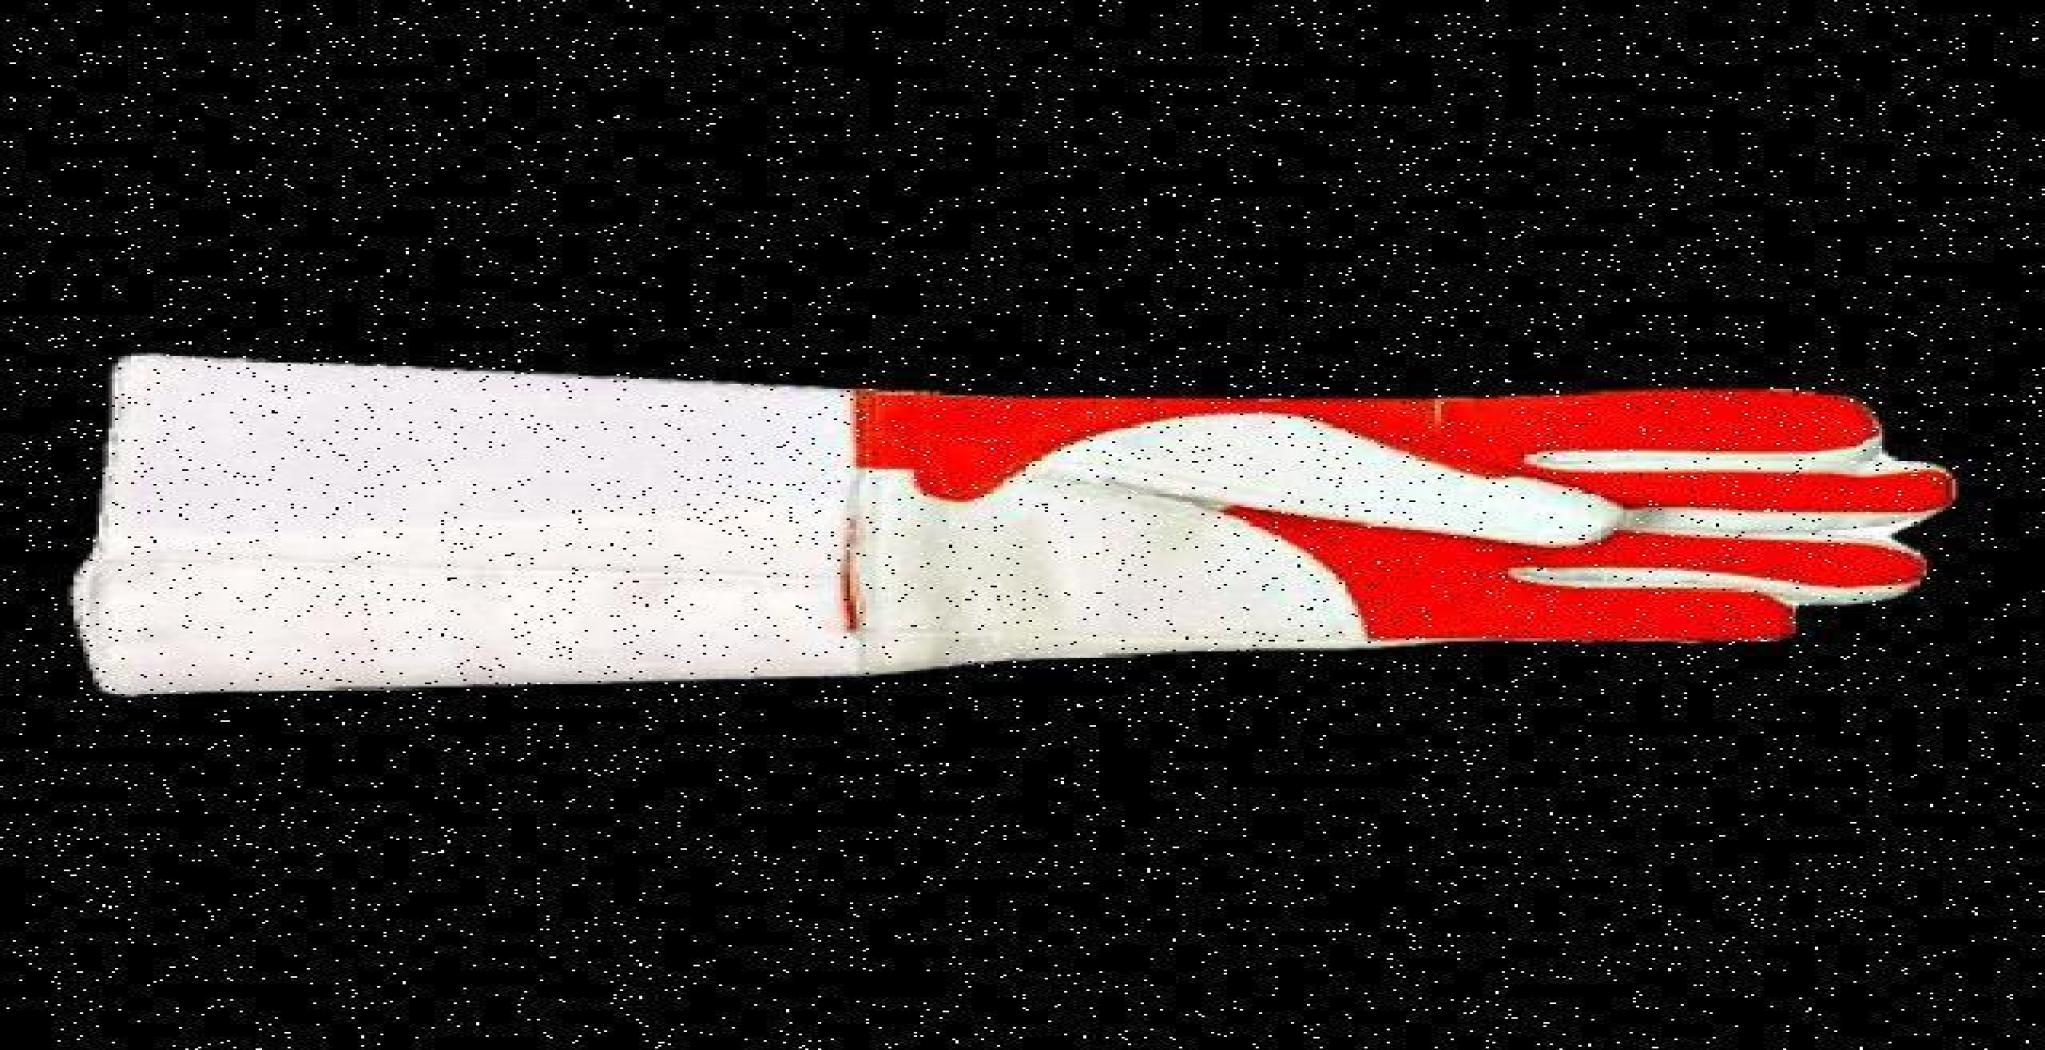gloved: (67, 350, 1955, 695)
